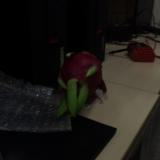pitaya: (59, 51, 107, 113)
